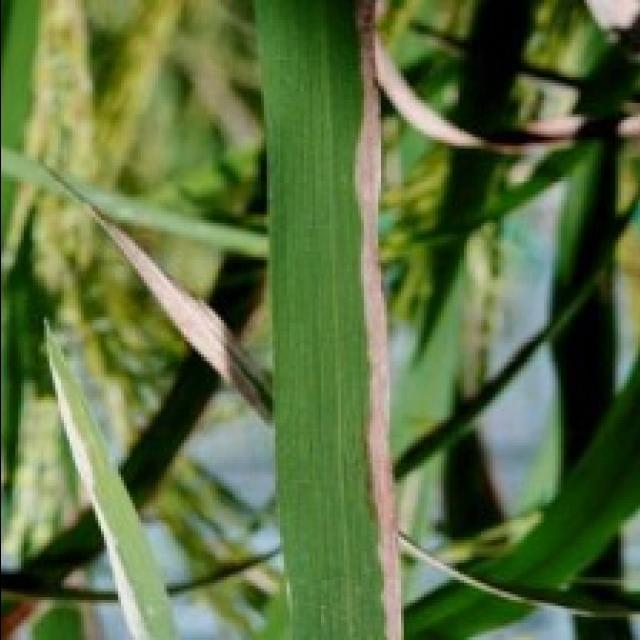Unhealthy: (44, 164, 272, 429), (351, 0, 403, 640), (46, 354, 151, 640)
